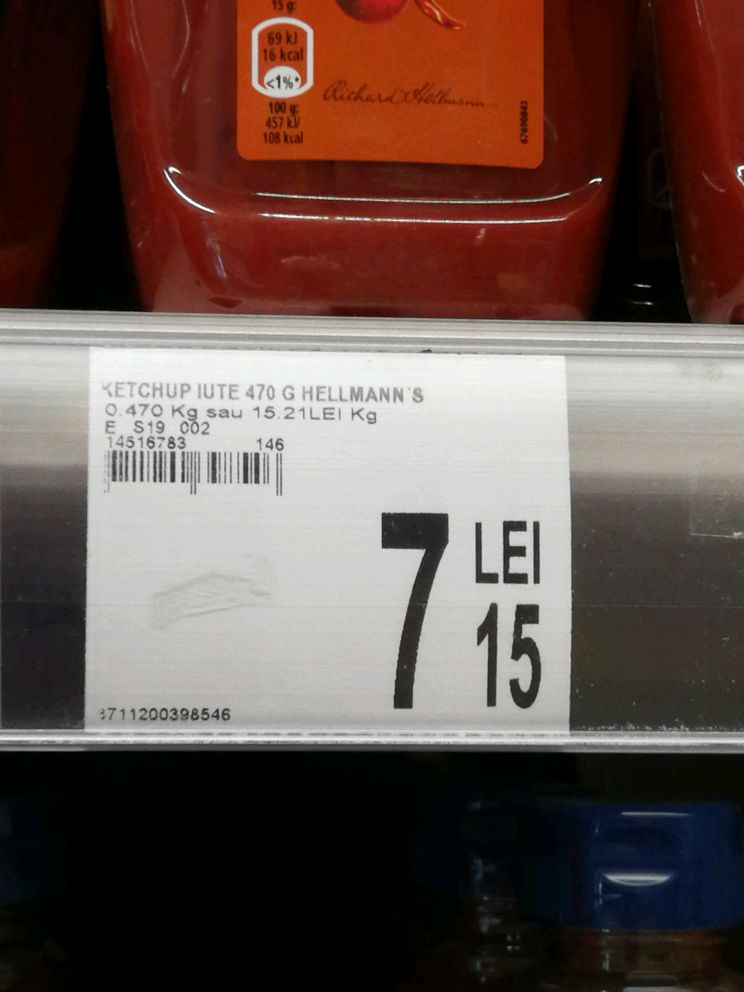price_bani: (465, 593, 558, 713)
price_lei: (364, 506, 461, 718)
price_tag: (59, 328, 596, 757)
product_id: (89, 693, 247, 729)
product_name: (93, 373, 441, 408)
